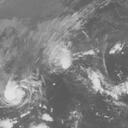cyclone: (3, 78, 33, 107), (47, 41, 75, 70)
